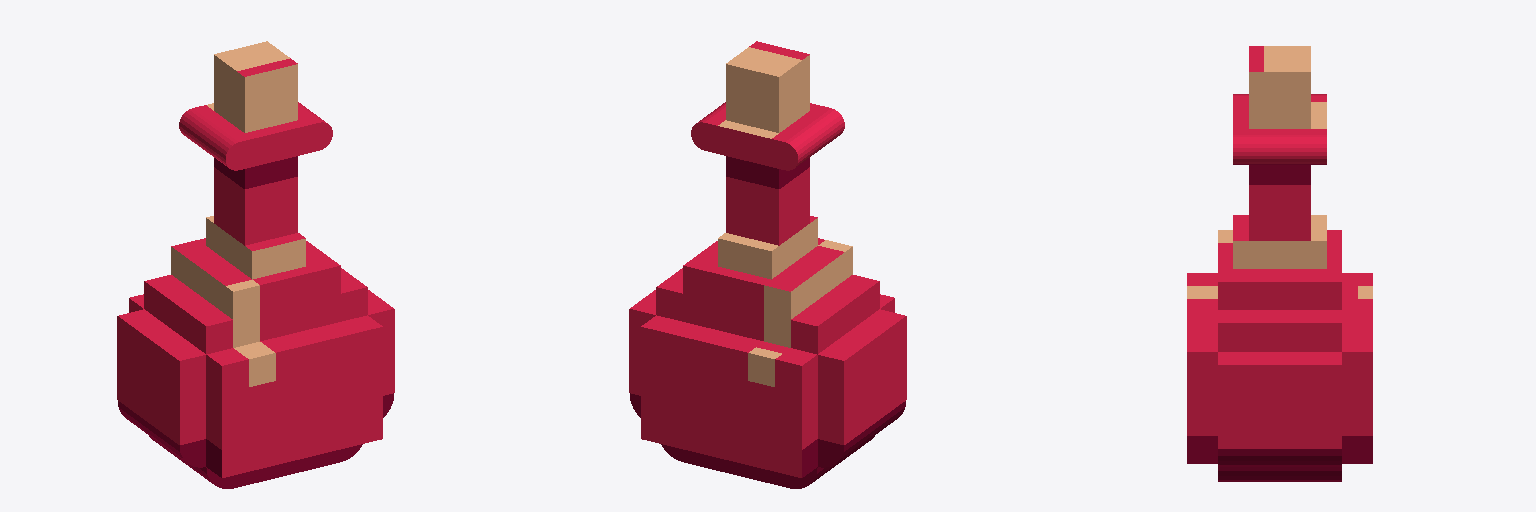
3 renders of one model, left to right at view 1: azimuth 30°, elevation 25°; view 2: azimuth 150°, elevation 25°; view 3: azimuth 270°, elevation 25°, orthographic.
Size of the model in its own units: 8 by 14 by 6.
1 materials, 1 textured.